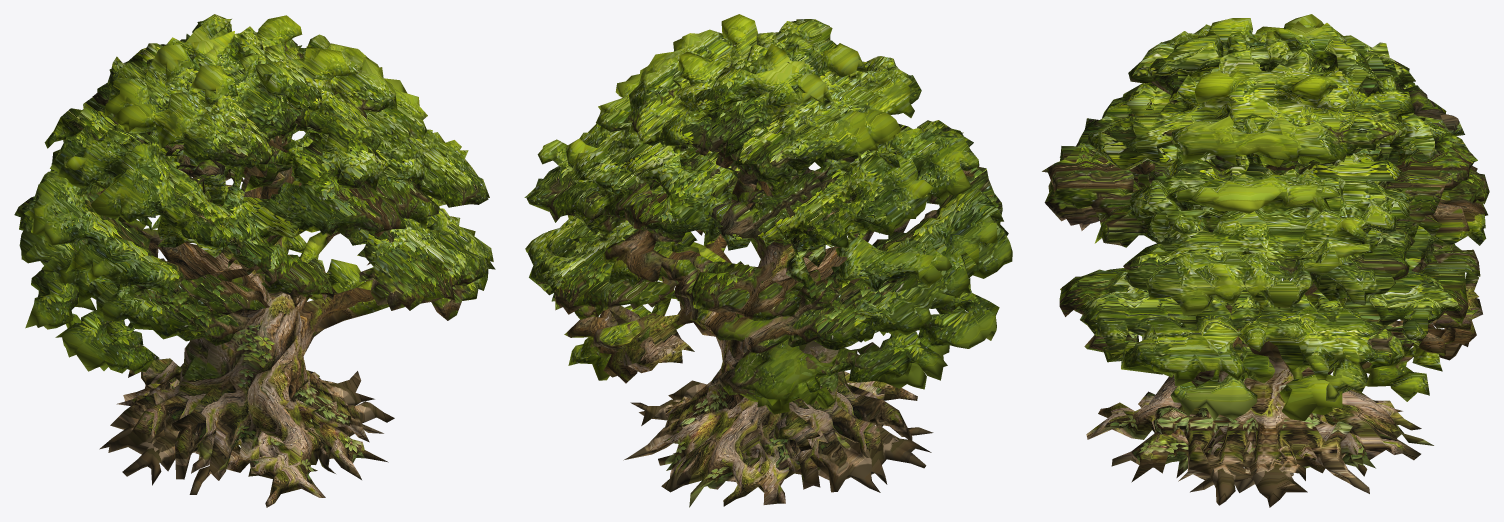
File: tree-v1.glb
The picture shows the model from 3 angles, left to right: view 1: azimuth 30°, elevation 25°; view 2: azimuth 150°, elevation 25°; view 3: azimuth 270°, elevation 25°; orthographic projection. The views are drawn at different scales.
Visible parts, largest first — view 1: tmplvt8nyvq.ply; view 2: tmplvt8nyvq.ply; view 3: tmplvt8nyvq.ply.
Boxes of the visible parts, box(x1,y1,x2,y2) form: tmplvt8nyvq.ply: box(14, 14, 495, 507); tmplvt8nyvq.ply: box(524, 14, 1012, 507); tmplvt8nyvq.ply: box(1042, 14, 1489, 507).
Bounding box in the file's own units: 2 × 1.95 × 1.9.
1 material, 1 textured.
